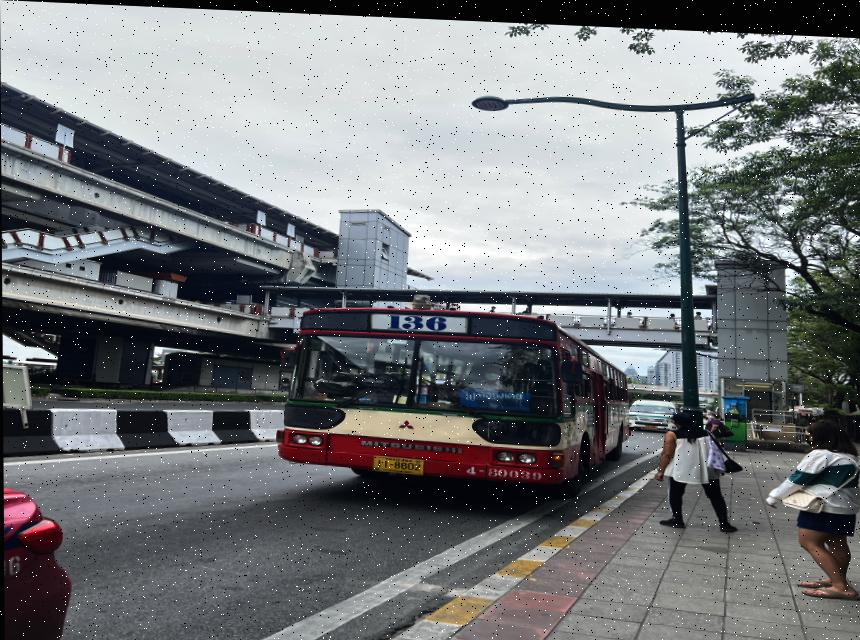BMTA-bus: (276, 298, 635, 488)
Bus Line Number: (367, 309, 471, 329)
Bus Side Number: (456, 458, 548, 480)
Destination Sign: (455, 383, 530, 408)
